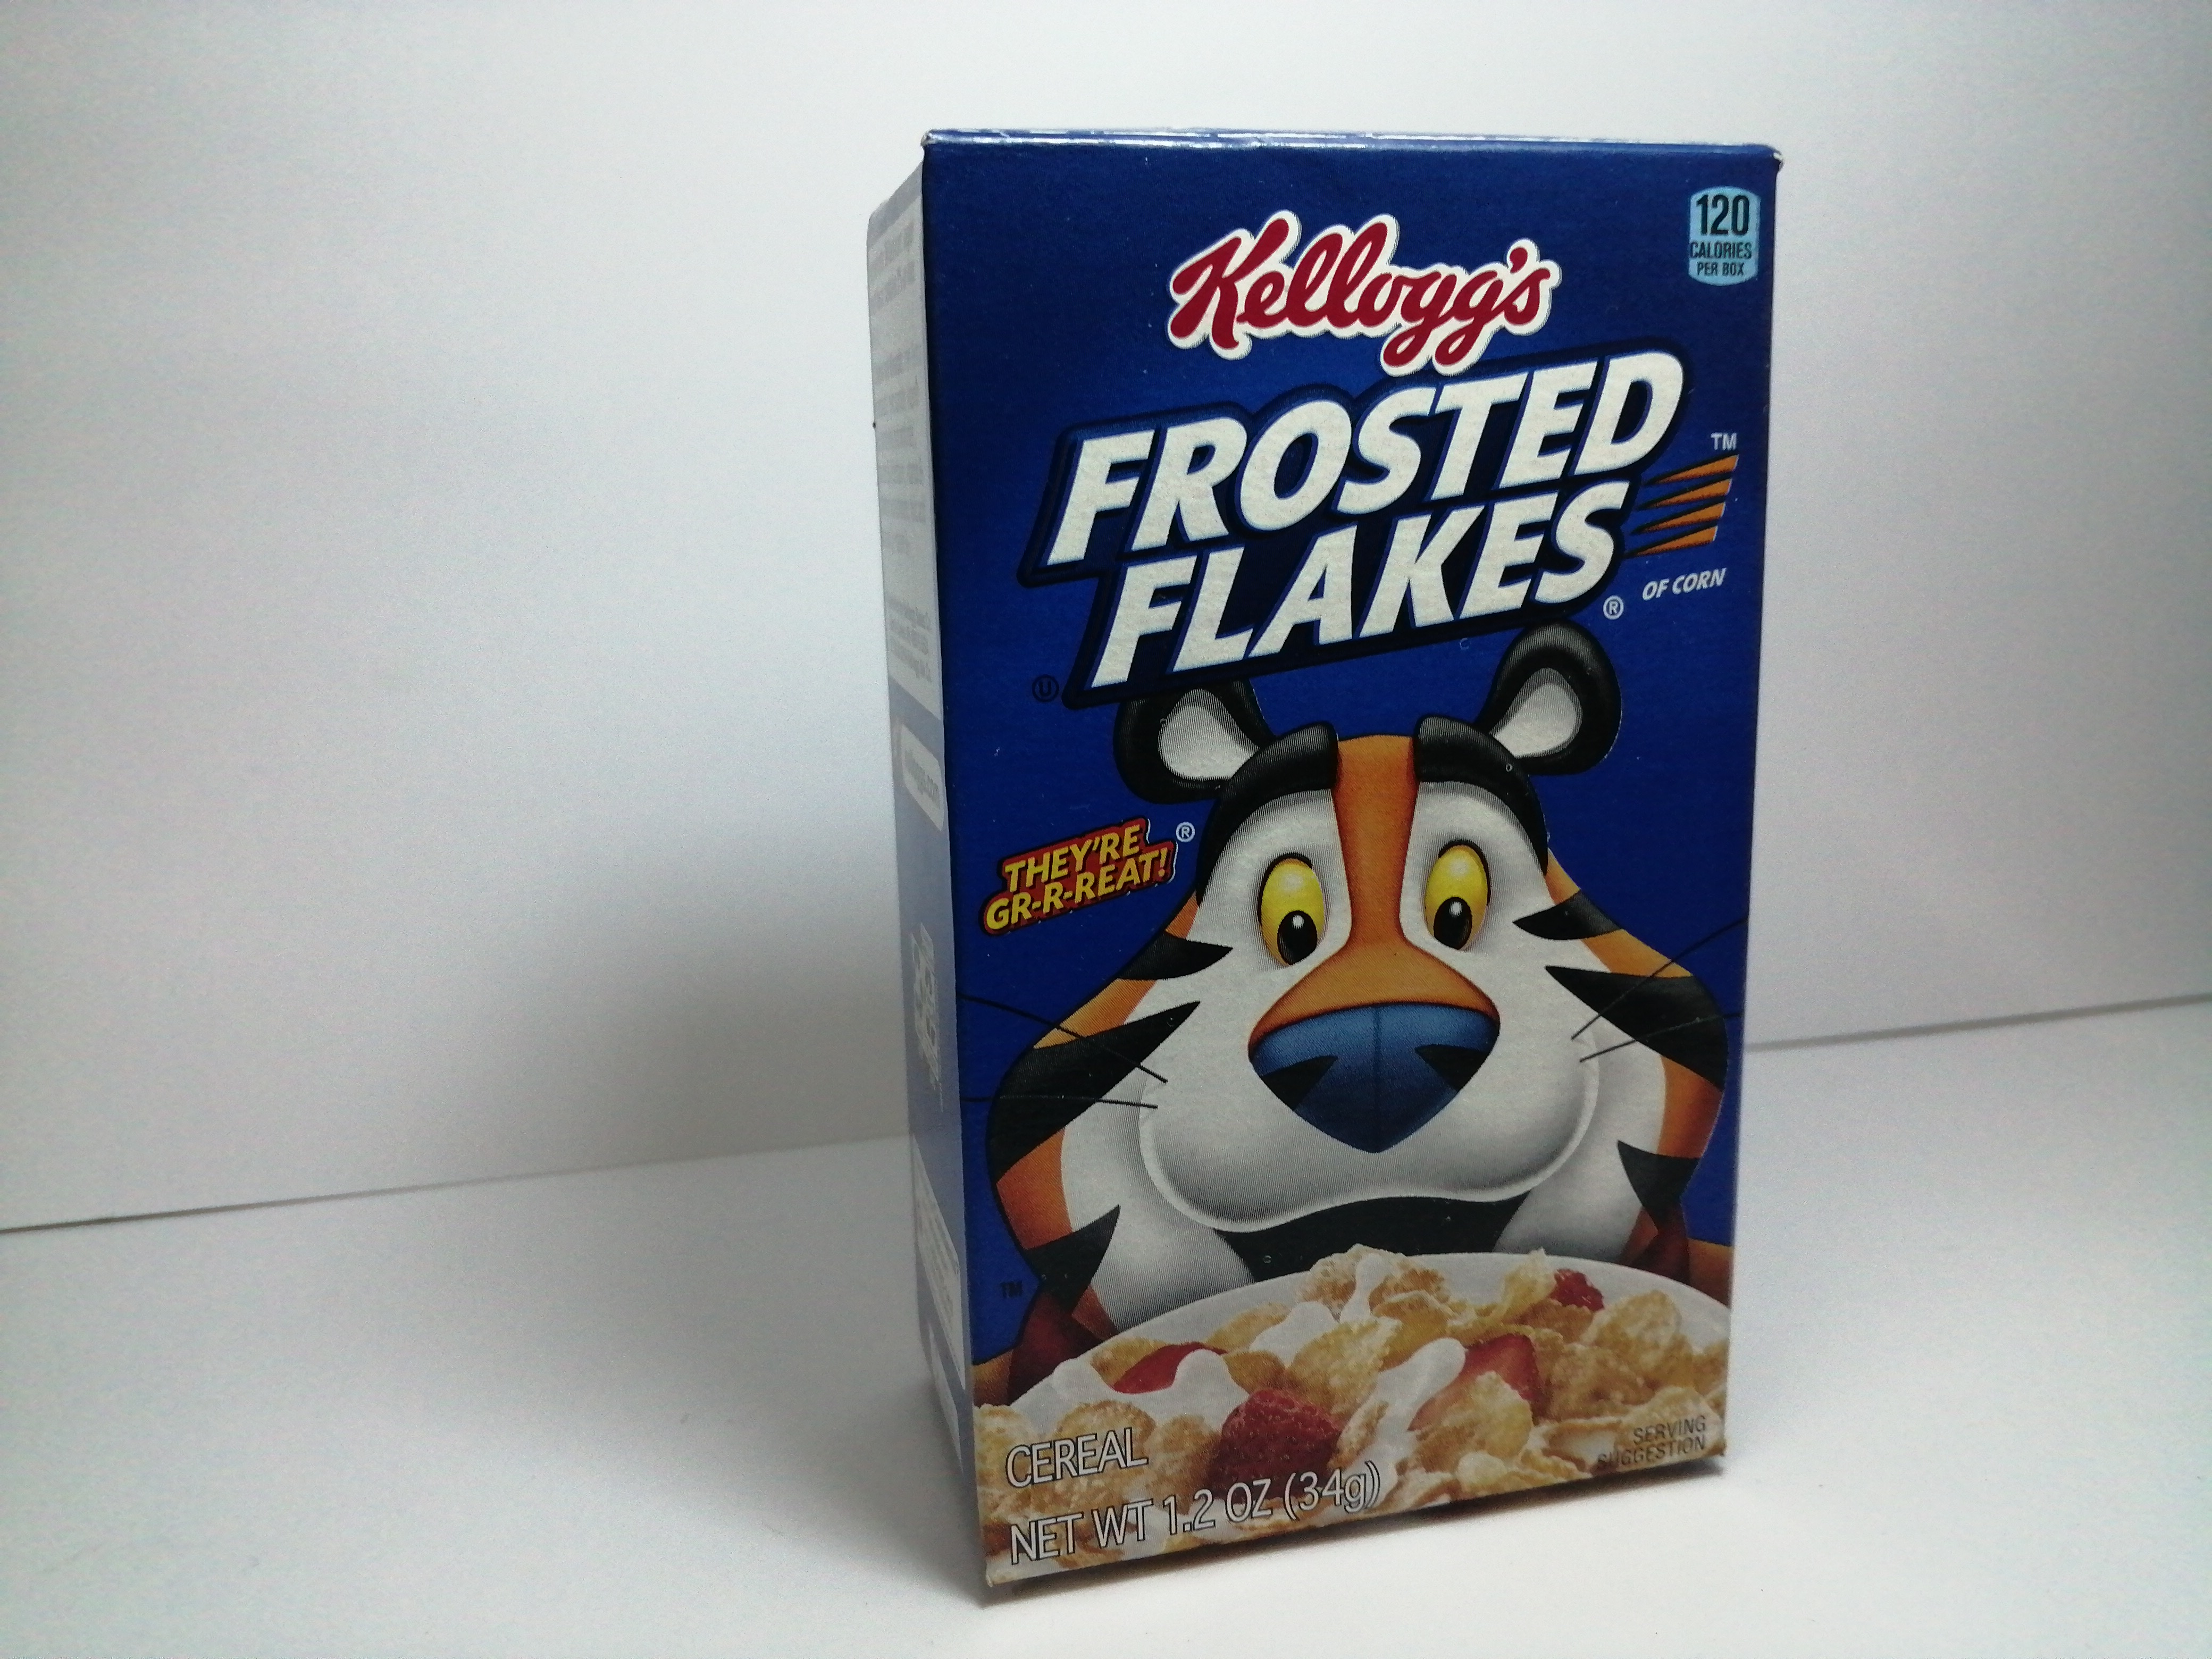cereal azucarado: (841, 99, 1846, 1596)
